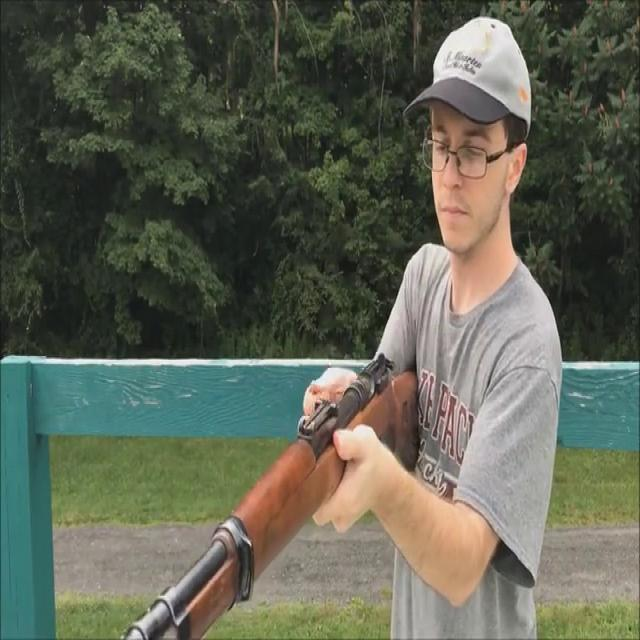gun-knife-thesis - v11 Yolov5 augmented: (114, 316, 410, 639)
